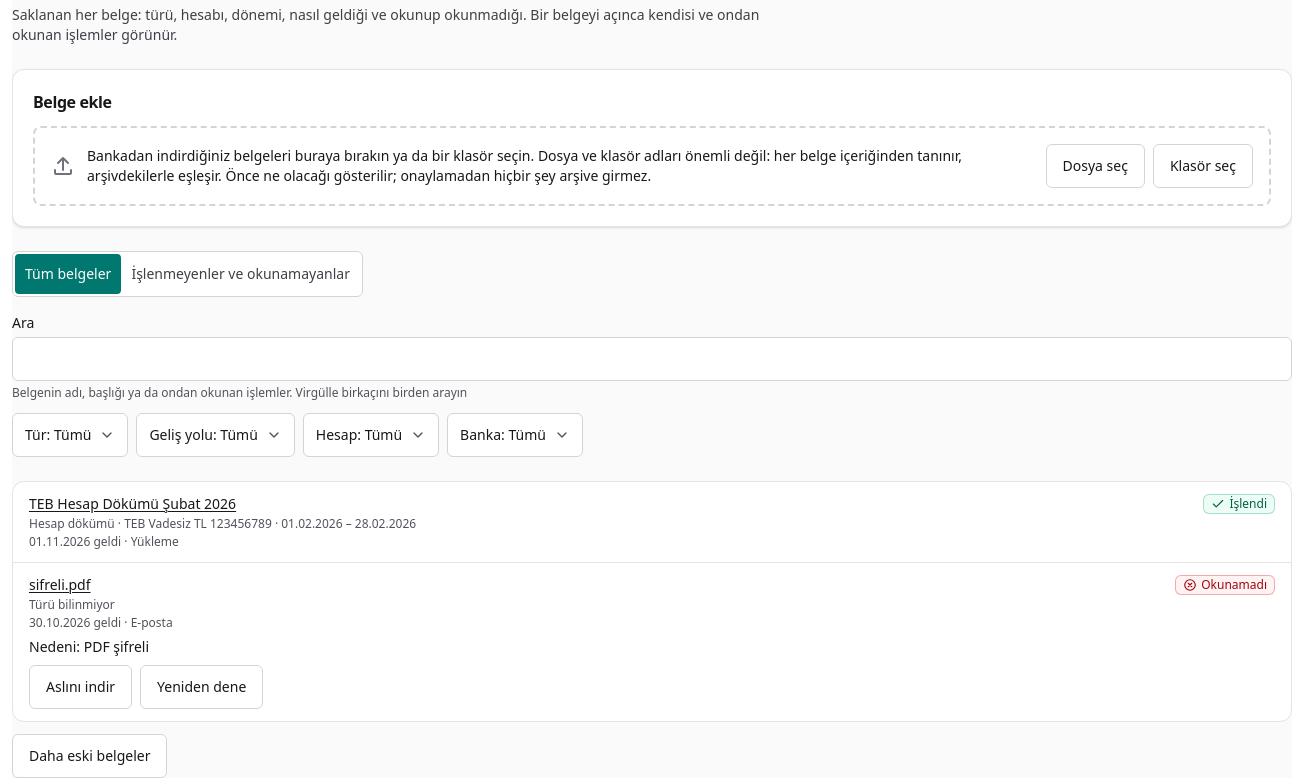
DocumentsPage: the archive › lists the documents newest first with their kind, account, period, status and way, a page at a time
(page scrolled)
expect the text "Hesap dökümü · TEB Vadesiz TL 123456789 · 01.02.2026 – 28.02.2026" is shown: met, box [29,515,416,532]
expect the text "İşlendi" is shown: met, box [1203,494,1275,514]
Click the button "Daha eski belgeler" at (90, 756), box [12,734,168,777]
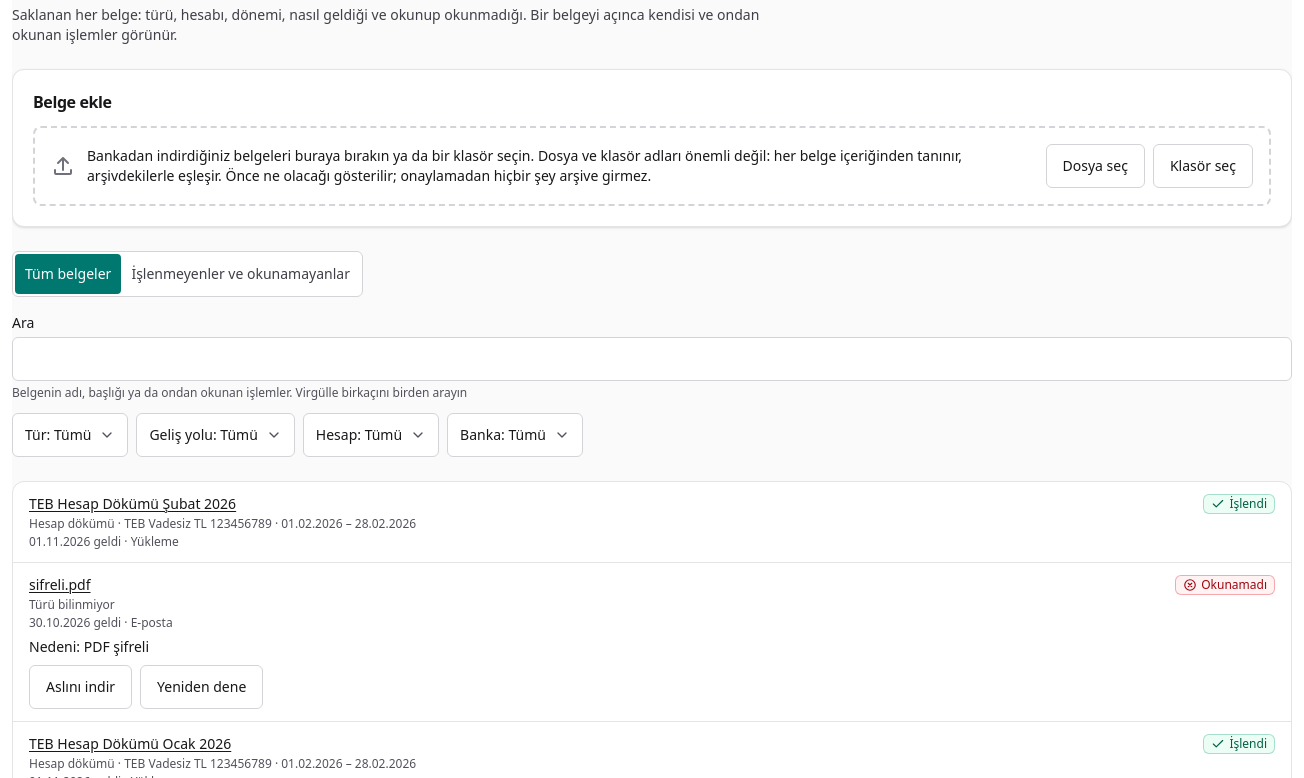
expect the link "TEB Hesap Dökümü Ocak 2026" is shown: met, box [29,734,231,754]
expect the button "Daha eski belgeler" is gone: met
